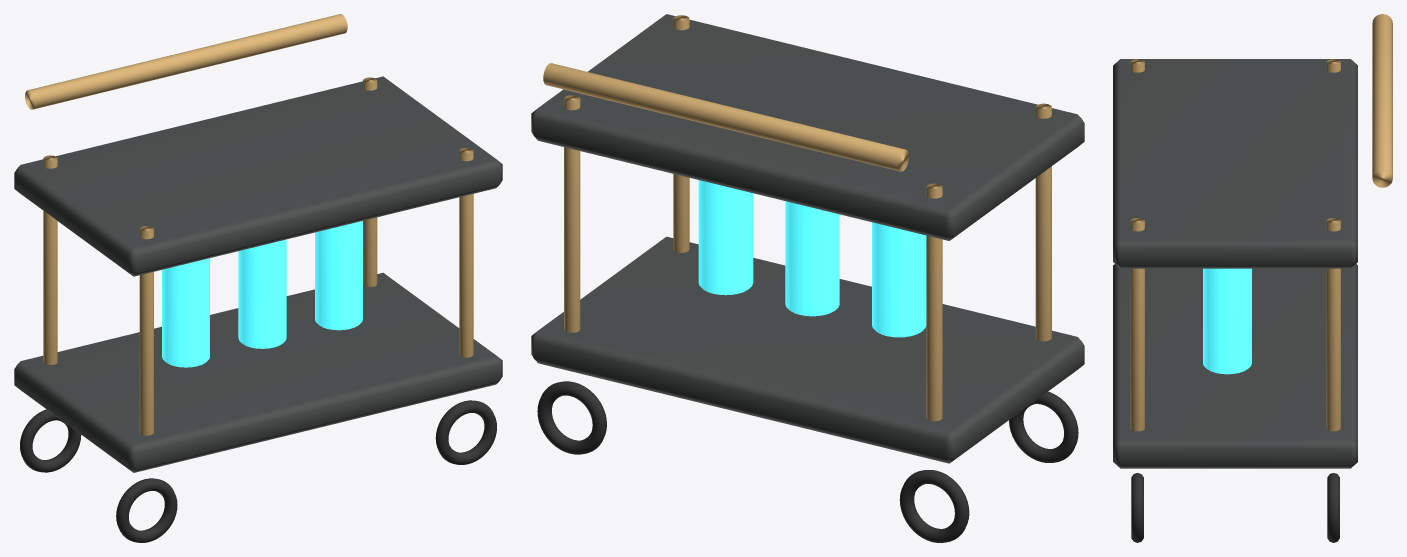
Rendered from hp_furniture_maintenance_cart_v1.glb.
The picture shows the model from 3 angles, left to right: view 1: azimuth 30°, elevation 25°; view 2: azimuth 150°, elevation 25°; view 3: azimuth 270°, elevation 25°; orthographic projection. The views are drawn at different scales.
Visible parts, largest first — view 1: upper_cart_shelf, lower_cart_shelf, push_handle_bar, cyan_repair_canister.001, cyan_repair_canister, cyan_repair_canister.002, cart_vertical_post.002, cart_vertical_post, cart_vertical_post.001, rubber_wheel, rubber_wheel.002, rubber_wheel.001 (+1 smaller); view 2: upper_cart_shelf, lower_cart_shelf, push_handle_bar, cyan_repair_canister.002, cyan_repair_canister.001, cyan_repair_canister, cart_vertical_post.001, cart_vertical_post.003, cart_vertical_post, rubber_wheel.003, rubber_wheel.001, rubber_wheel (+1 smaller); view 3: upper_cart_shelf, lower_cart_shelf, cyan_repair_canister.002, push_handle_bar, cart_vertical_post.002, cart_vertical_post.003, rubber_wheel.002, rubber_wheel.003.
Part boxes in pixels (x1,y1,x2,y2): upper_cart_shelf: [14, 76, 502, 276]; lower_cart_shelf: [14, 272, 502, 472]; push_handle_bar: [25, 14, 347, 109]; cyan_repair_canister.001: [238, 239, 286, 348]; cyan_repair_canister: [162, 258, 209, 367]; cyan_repair_canister.002: [315, 221, 362, 330]; cart_vertical_post.002: [459, 148, 473, 357]; cart_vertical_post: [139, 226, 153, 435]; cart_vertical_post.001: [43, 155, 57, 364]; rubber_wheel: [116, 478, 177, 542]; rubber_wheel.002: [435, 400, 496, 464]; rubber_wheel.001: [20, 409, 81, 472]; upper_cart_shelf: [531, 14, 1084, 240]; lower_cart_shelf: [531, 236, 1084, 463]; push_handle_bar: [543, 63, 908, 171]; cyan_repair_canister.002: [698, 180, 753, 295]; cyan_repair_canister.001: [785, 201, 839, 316]; cyan_repair_canister: [872, 222, 926, 337]; cart_vertical_post.001: [926, 183, 942, 421]; cart_vertical_post.003: [564, 95, 580, 332]; cart_vertical_post: [1035, 103, 1051, 341]; rubber_wheel.003: [537, 381, 606, 454]; rubber_wheel.001: [899, 470, 969, 542]; rubber_wheel: [1009, 391, 1078, 462]; upper_cart_shelf: [1113, 59, 1357, 268]; lower_cart_shelf: [1113, 264, 1357, 468]; cyan_repair_canister.002: [1203, 268, 1251, 374]; push_handle_bar: [1372, 14, 1392, 187]; cart_vertical_post.002: [1130, 218, 1144, 431]; cart_vertical_post.003: [1326, 218, 1340, 431]; rubber_wheel.002: [1131, 473, 1143, 542]; rubber_wheel.003: [1327, 473, 1339, 542].
Size of the model in its own units: 1.09 by 0.996 by 0.685.
